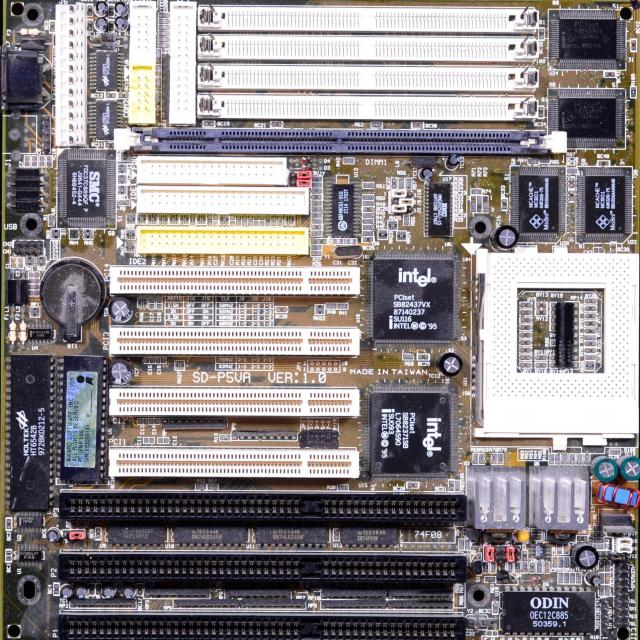Capacitor: (137, 417, 162, 426), (148, 297, 164, 310), (144, 358, 168, 365), (156, 436, 171, 444), (142, 436, 155, 445), (17, 256, 23, 268), (11, 256, 16, 269)
Connector: (59, 489, 467, 528), (60, 549, 466, 585), (61, 610, 468, 640), (116, 127, 568, 154), (196, 93, 538, 122), (198, 7, 540, 34), (199, 34, 539, 61), (196, 64, 538, 90), (109, 386, 359, 418), (111, 264, 360, 296), (110, 326, 361, 357), (108, 447, 359, 477), (136, 224, 308, 254), (136, 154, 288, 186), (136, 186, 306, 214), (170, 4, 192, 122), (128, 65, 157, 125), (130, 4, 155, 63)
IC: (367, 252, 460, 348), (364, 384, 456, 478), (8, 354, 54, 513), (59, 356, 108, 485), (546, 87, 626, 149), (498, 585, 598, 634), (549, 9, 626, 72), (59, 150, 115, 228), (578, 166, 630, 241), (512, 168, 564, 242), (324, 178, 360, 237), (170, 527, 254, 547), (255, 529, 334, 549), (426, 182, 454, 237), (337, 528, 404, 549), (87, 100, 123, 138), (90, 51, 124, 91), (105, 528, 170, 548), (15, 512, 45, 536), (18, 542, 44, 566), (27, 323, 56, 344)
Resistor Network: (363, 194, 373, 236), (392, 177, 414, 190), (326, 302, 348, 310), (311, 244, 323, 256), (136, 297, 147, 309), (196, 484, 217, 490), (478, 453, 486, 465), (342, 156, 354, 164), (583, 454, 591, 464), (118, 198, 128, 206), (49, 214, 55, 227), (218, 434, 230, 440), (363, 182, 375, 188), (568, 452, 575, 462), (576, 455, 583, 465), (491, 453, 497, 464), (550, 452, 555, 464), (497, 453, 502, 465), (561, 454, 567, 464), (472, 454, 478, 464), (555, 454, 560, 466), (404, 214, 409, 226)
